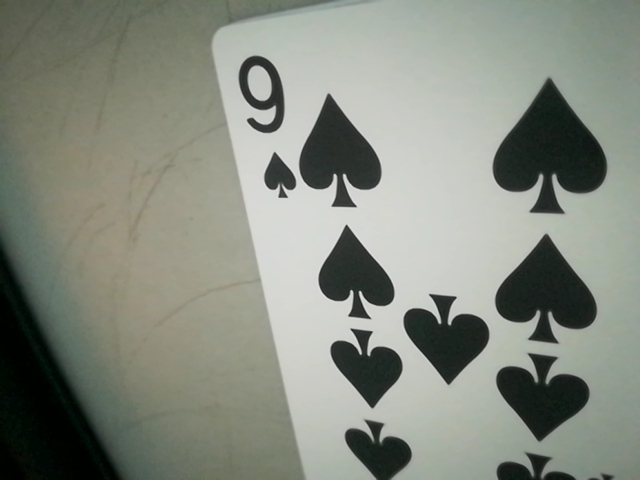ht 9: (225, 43, 307, 209)
